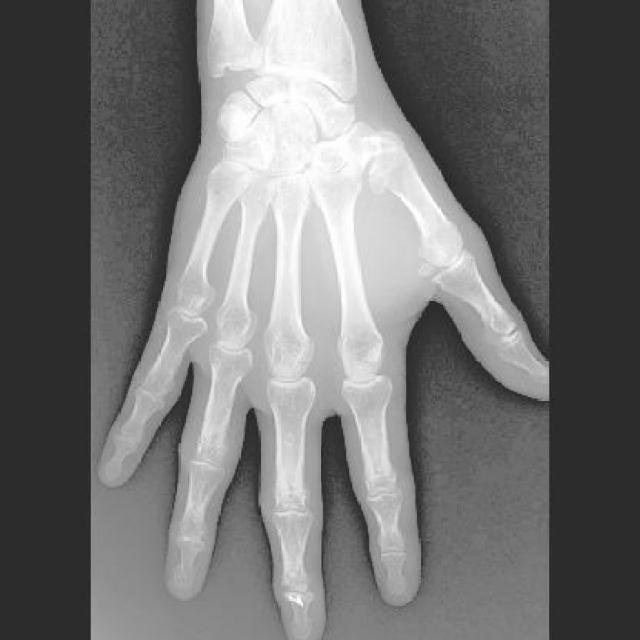Fracture: (372, 151, 414, 200)
